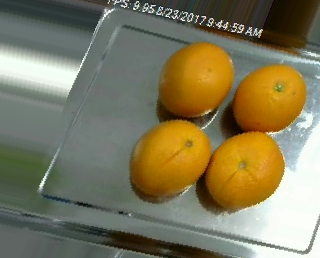Orange: (130, 119, 211, 197), (206, 132, 284, 209), (157, 42, 235, 116), (234, 63, 306, 133)
